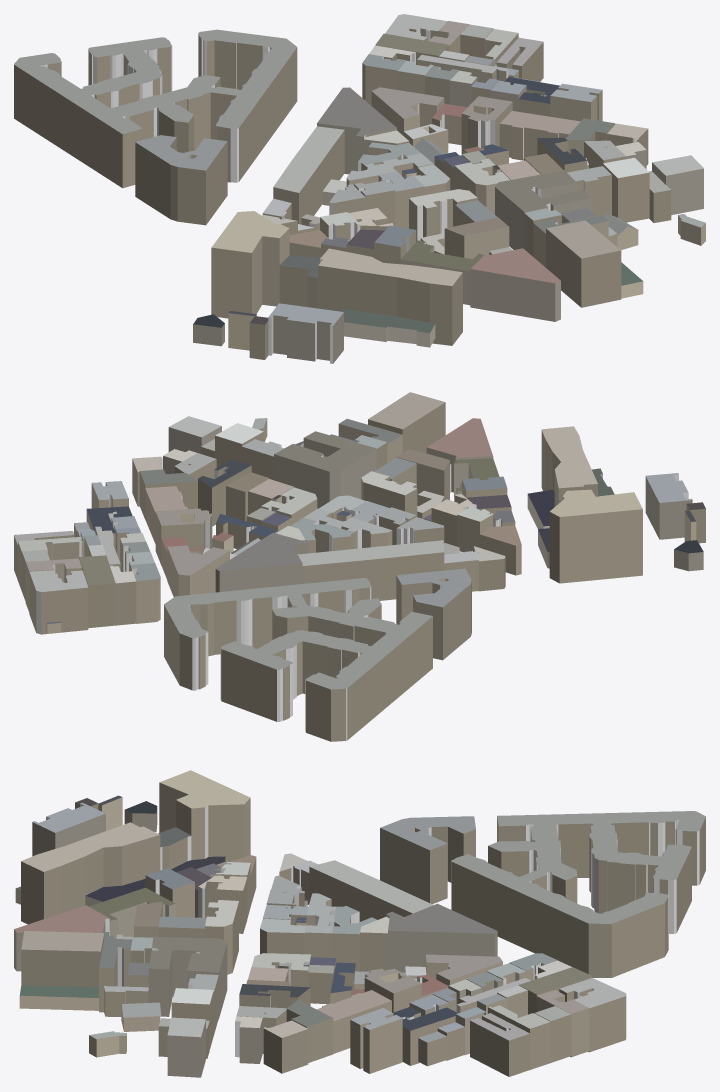
The picture shows the model from 3 angles, top to bottom: view 1: azimuth 30°, elevation 25°; view 2: azimuth 150°, elevation 25°; view 3: azimuth 270°, elevation 25°; orthographic projection. The views are drawn at different scales.
Visible parts, largest first — view 1: tuile; view 2: tuile; view 3: tuile.
Part boxes in pixels (<box>): tuile: <box>14,14,705,363</box>; tuile: <box>14,392,705,741</box>; tuile: <box>14,770,705,1077</box>.
Size of the model in its own units: 270 by 36.07 by 303.
